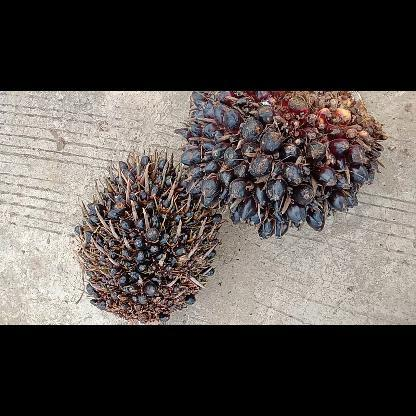TBS mentah: (172, 91, 390, 241), (70, 154, 224, 324)
